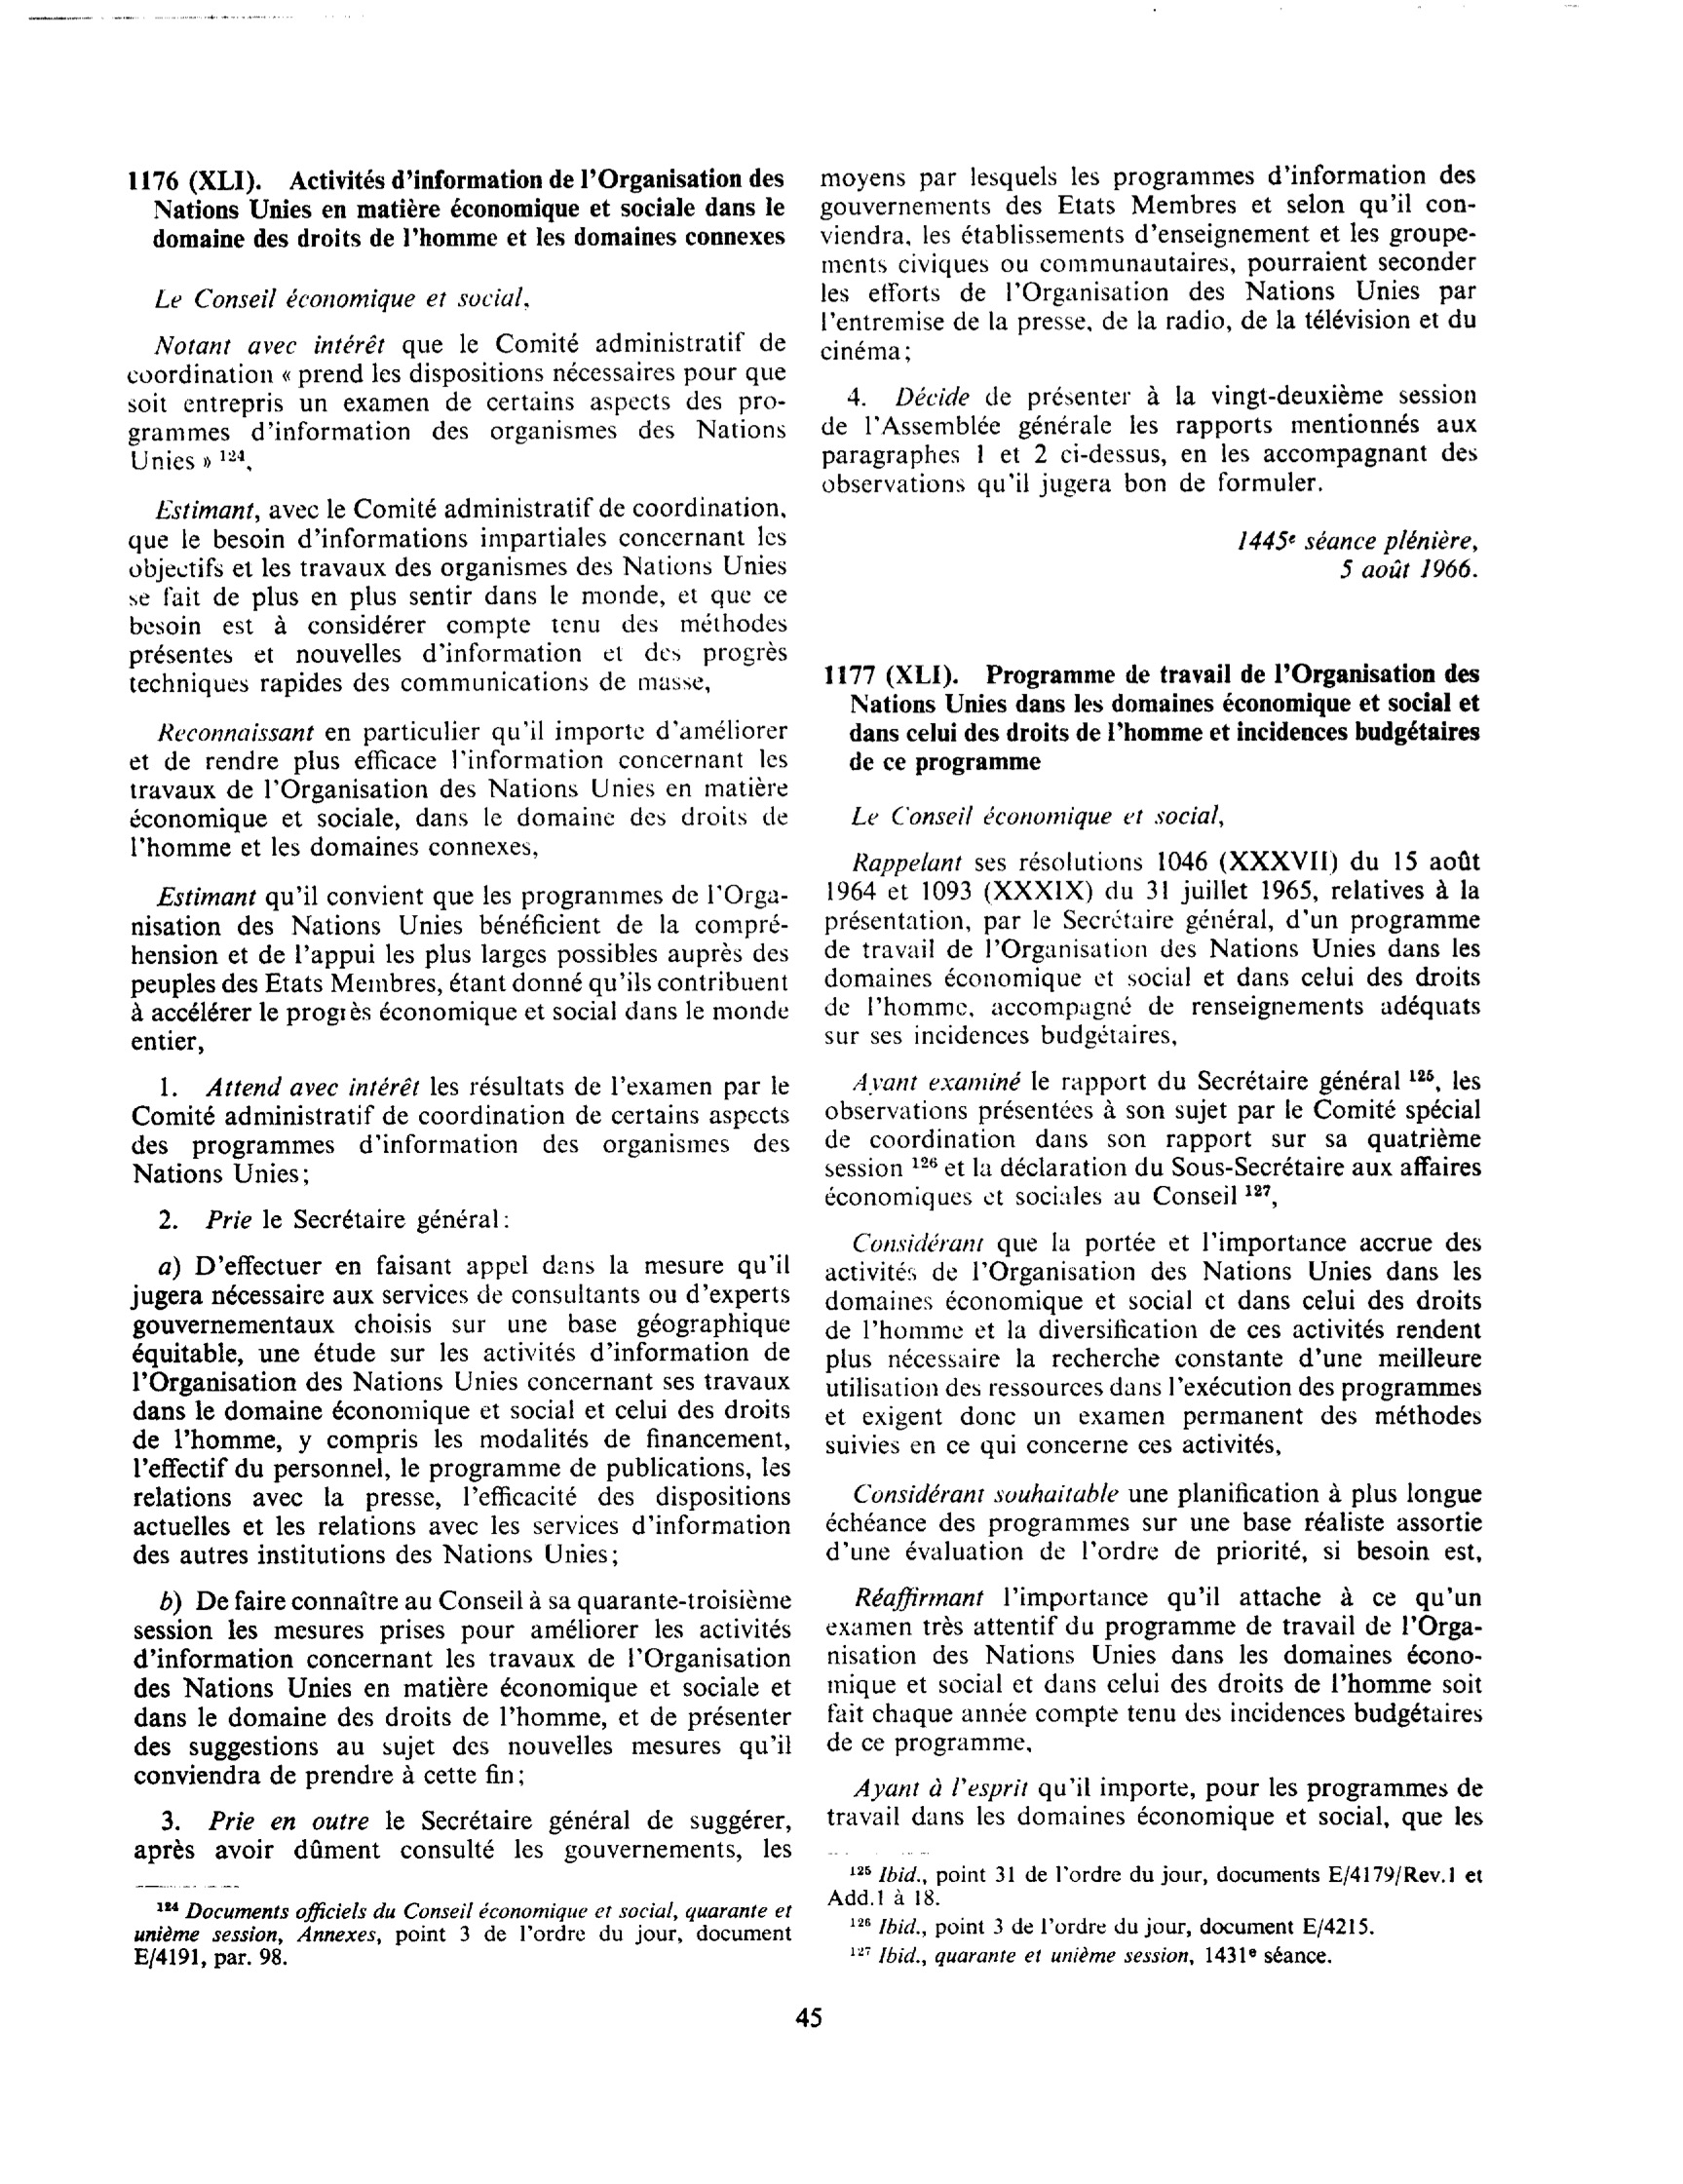MainZone-Continued: (815, 159, 1485, 367)
MainZone-Date: (1340, 554, 1488, 588)
MainZone-Head: (819, 652, 1487, 781), (116, 158, 794, 259)
MainZone-ListItem: (120, 1246, 799, 1574), (125, 1582, 798, 1793), (815, 377, 1487, 506), (124, 1066, 799, 1193), (125, 1802, 802, 1869), (131, 1199, 522, 1241)
MainZone-P: (820, 1227, 1488, 1464), (121, 491, 796, 700), (820, 843, 1488, 1052), (821, 1579, 1491, 1762), (123, 877, 798, 1058), (122, 714, 798, 864), (119, 326, 794, 476), (820, 1064, 1488, 1213), (818, 1475, 1490, 1571), (821, 1771, 1491, 1838), (133, 276, 537, 318), (835, 796, 1233, 833)
MainZone-Signature: (1221, 522, 1488, 557)
MarginTextZone-Notes: (126, 1894, 800, 1985), (823, 1859, 1494, 1910), (832, 1939, 1358, 1974), (841, 1912, 1383, 1940)
NumberingZone: (788, 1999, 830, 2039)
